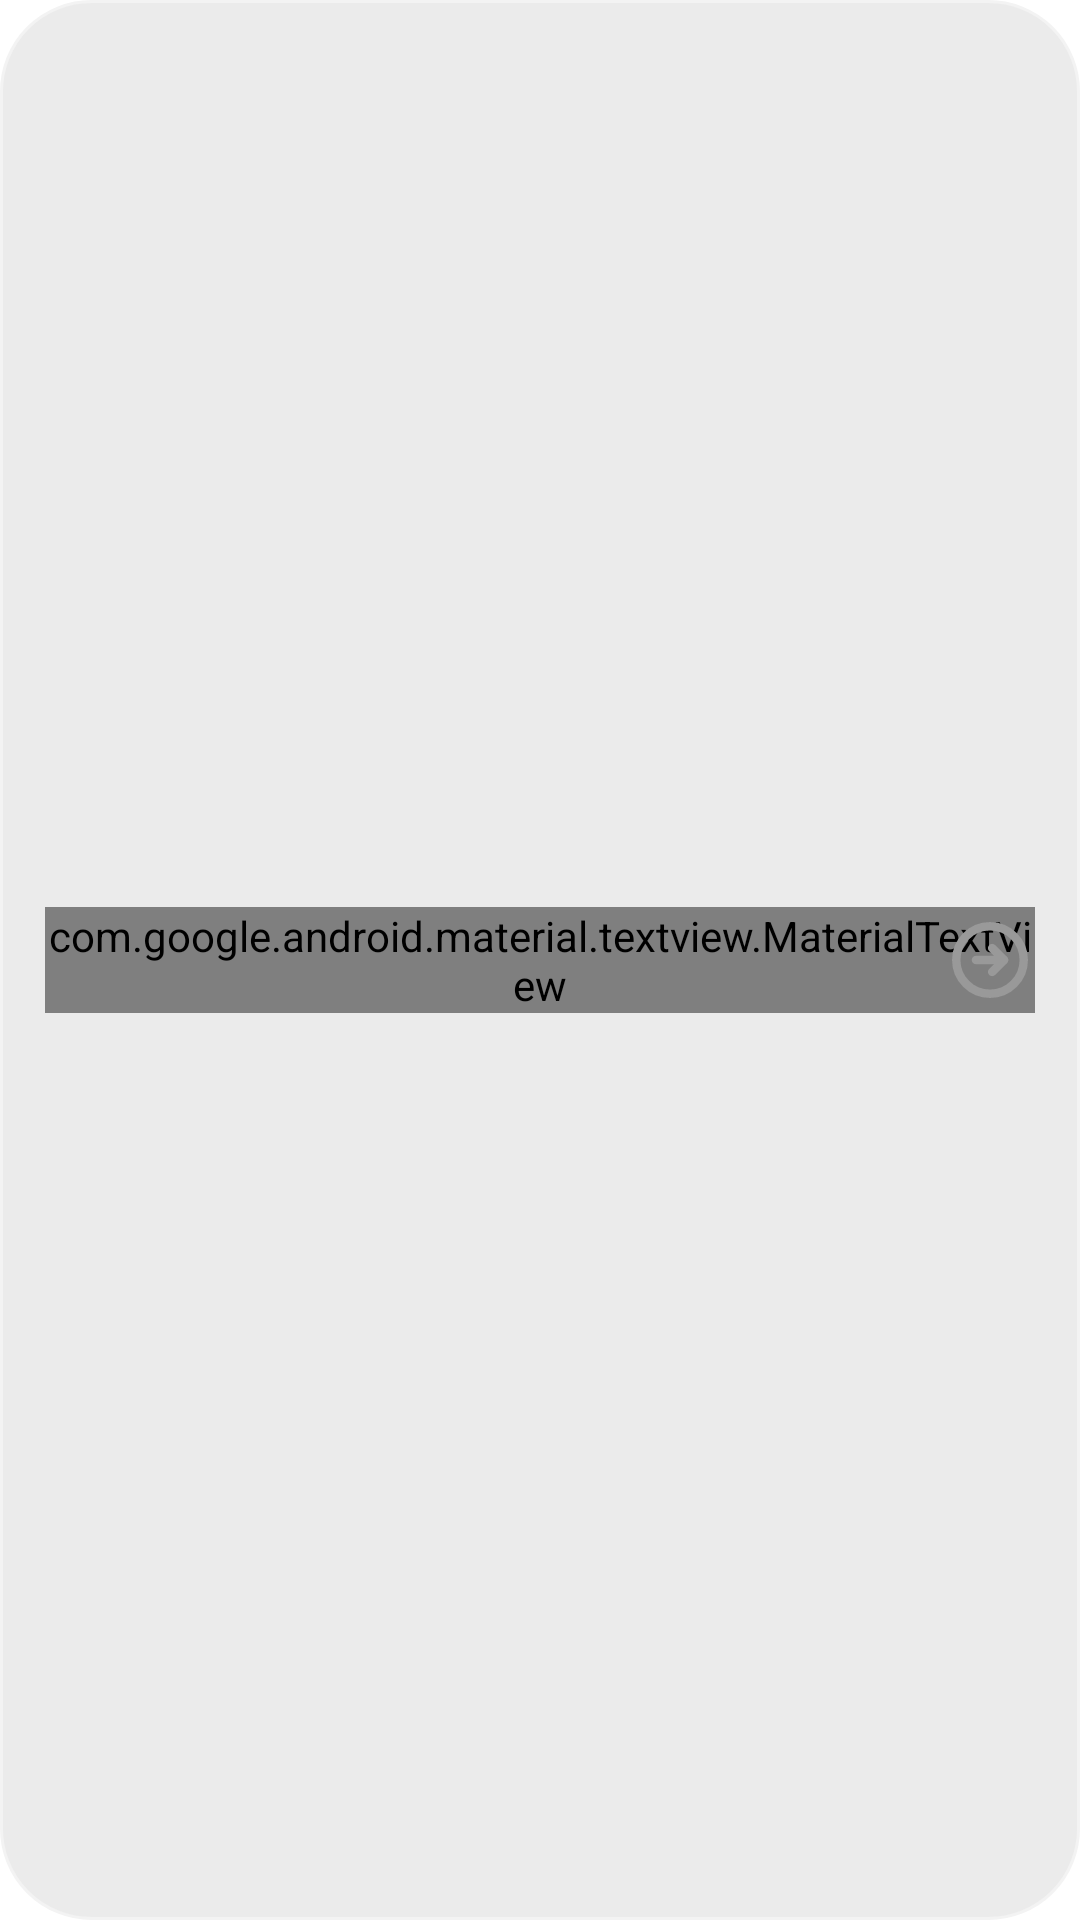

Icon bounding boxes for this 1080×1920 phone screenshot, format [x1,y1,x2,y2]:
arrow right: [945,922,1030,998]
